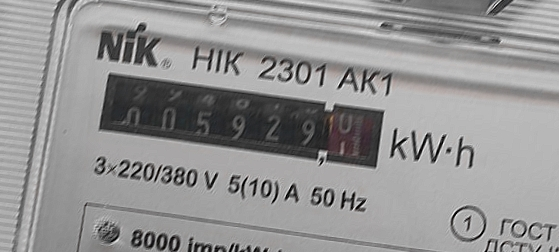0: (159, 103, 181, 133), (122, 101, 146, 126), (336, 110, 357, 135)
2: (262, 110, 285, 145)
5: (194, 107, 215, 137)
9: (226, 110, 251, 142), (298, 115, 320, 149), (130, 82, 150, 102)
screen: (92, 66, 394, 178)
